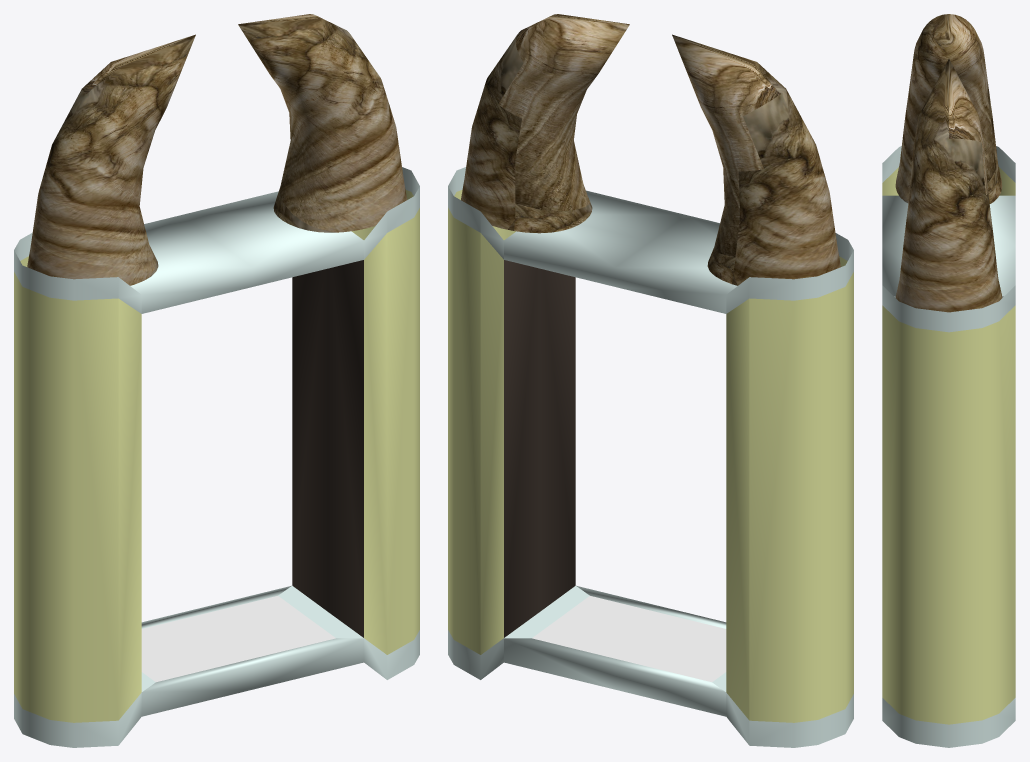
Rendered from GateOfHorn.glb.
3 views of the same model, side by side, from view 1: azimuth 30°, elevation 25°; view 2: azimuth 150°, elevation 25°; view 3: azimuth 270°, elevation 25° (orthographic). The views are drawn at different scales.
Visible parts, largest first — view 1: Cube, Cone, Cube.003, Top, Cube.002, Cube.001; view 2: Cube, Cone, Cube.003, Top, Cube.002, Cube.001; view 3: Cube, Cone, Top, Cube.002.
Boxes of the visible parts, left/top/right/bottom form: Cube: left=14, top=190, right=419, bottom=722; Cone: left=27, top=14, right=407, bottom=285; Cube.003: left=292, top=260, right=363, bottom=637; Top: left=14, top=167, right=419, bottom=313; Cube.002: left=14, top=585, right=419, bottom=747; Cube.001: left=141, top=596, right=335, bottom=682; Cube: left=448, top=189, right=853, bottom=722; Cone: left=461, top=14, right=840, bottom=285; Cube.003: left=504, top=260, right=575, bottom=637; Top: left=448, top=167, right=853, bottom=313; Cube.002: left=448, top=585, right=853, bottom=747; Cube.001: left=532, top=596, right=726, bottom=682; Cube: left=882, top=167, right=1015, bottom=724; Cone: left=895, top=14, right=1002, bottom=312; Top: left=882, top=146, right=1015, bottom=332; Cube.002: left=882, top=698, right=1015, bottom=747.
Bounding box in the file's own units: 4.34 × 7.01 × 1.39.
Materials: 6 (1 with a texture image).
